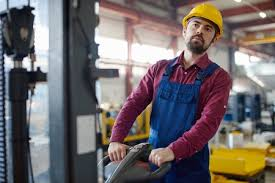Person_wearing_helmet: (175, 0, 227, 30)
